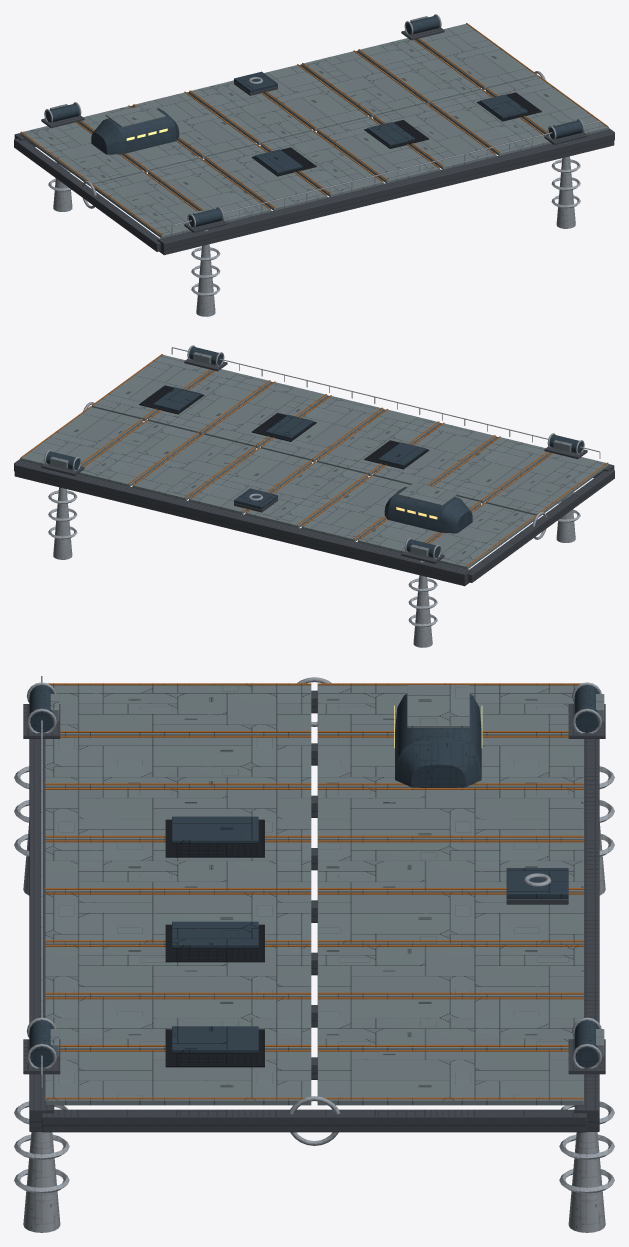
File: large_ice_anchoring_terrace_lod0.glb
3 renders of one model, top to bottom at view 1: azimuth 30°, elevation 25°; view 2: azimuth 150°, elevation 25°; view 3: azimuth 270°, elevation 25°, orthographic. The views are drawn at different scales.
Parts seen in each view (by area): view 1: LOD0_Hull, LOD0_Mechanical, LOD0_Armor, LOD0_BrushedMetal, LOD0_Livery, LOD0_MechanicalDark; view 2: LOD0_Hull, LOD0_Mechanical, LOD0_Armor, LOD0_BrushedMetal, LOD0_Livery, LOD0_MechanicalDark; view 3: LOD0_Hull, LOD0_Mechanical, LOD0_Livery, LOD0_Armor, LOD0_BrushedMetal, LOD0_MechanicalDark.
Boxes of the visible parts, x1,y1,x2,y2 form: LOD0_Hull: (20,16,608,238); LOD0_Mechanical: (14,28,614,255); LOD0_Armor: (45,15,582,227); LOD0_BrushedMetal: (44,14,600,316); LOD0_Livery: (21,23,608,235); LOD0_MechanicalDark: (251,92,541,176); LOD0_Hull: (20,352,608,569); LOD0_Mechanical: (14,359,614,586); LOD0_Armor: (46,346,583,558); LOD0_BrushedMetal: (44,345,600,647); LOD0_Livery: (20,354,607,566); LOD0_MechanicalDark: (139,385,429,469); LOD0_Hull: (45,685,604,1105); LOD0_Mechanical: (23,690,605,1132); LOD0_Livery: (45,683,583,1099); LOD0_Armor: (29,685,598,1067); LOD0_BrushedMetal: (14,676,614,1232); LOD0_MechanicalDark: (165,819,264,1067).
Size of the model in its own units: 81.4 by 19.24 by 48.5.
Materials: 7 (6 with a texture image).
